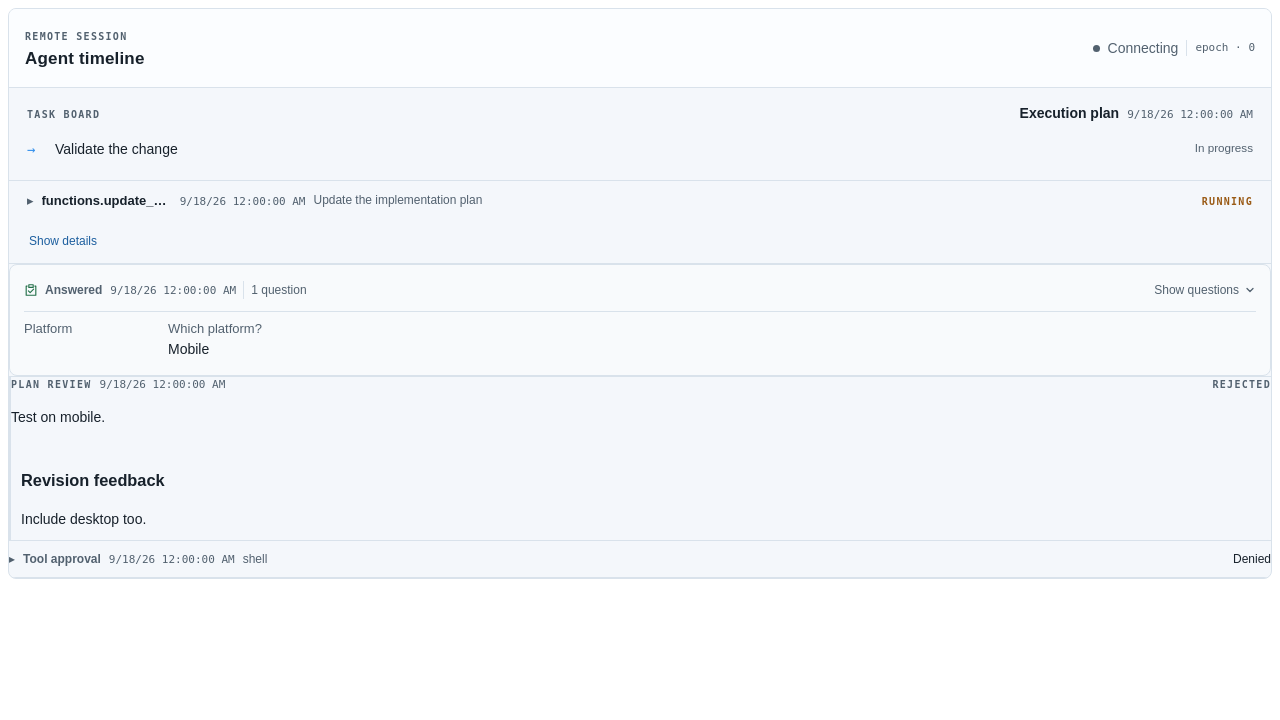
Test: content-only timeline › updates task completion and plan tool status while preserving answered questions and approval decisions
The width and height of the screenshot is (1280, 720).
Expected: the element with class "agent-todo" shows "In progress", left=1195, top=141, right=1253, bottom=154
Expected: the element with class "agent-tool" shows "Running", left=27, top=185, right=1253, bottom=217
Click the button with class "agent-approval-receipt-toggle".
click(62, 559)  # box left=9, top=541, right=1271, bottom=577
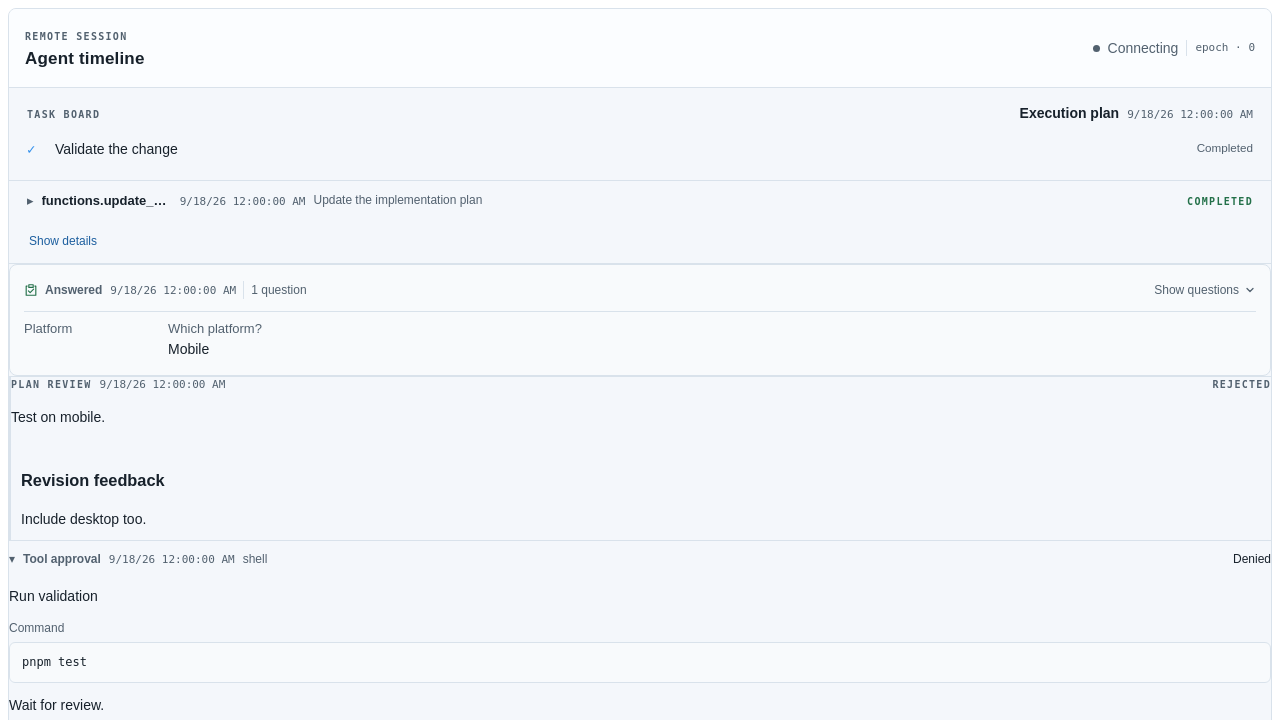
Expected: the element with class "agent-tool-approval-completed" shows "Wait for review.", left=9, top=697, right=104, bottom=713
Expected: the element with class "agent-todo" shows "Completed", left=1197, top=141, right=1253, bottom=154
Expected: the text with class "agent-todo" no longer shows "In progress"
